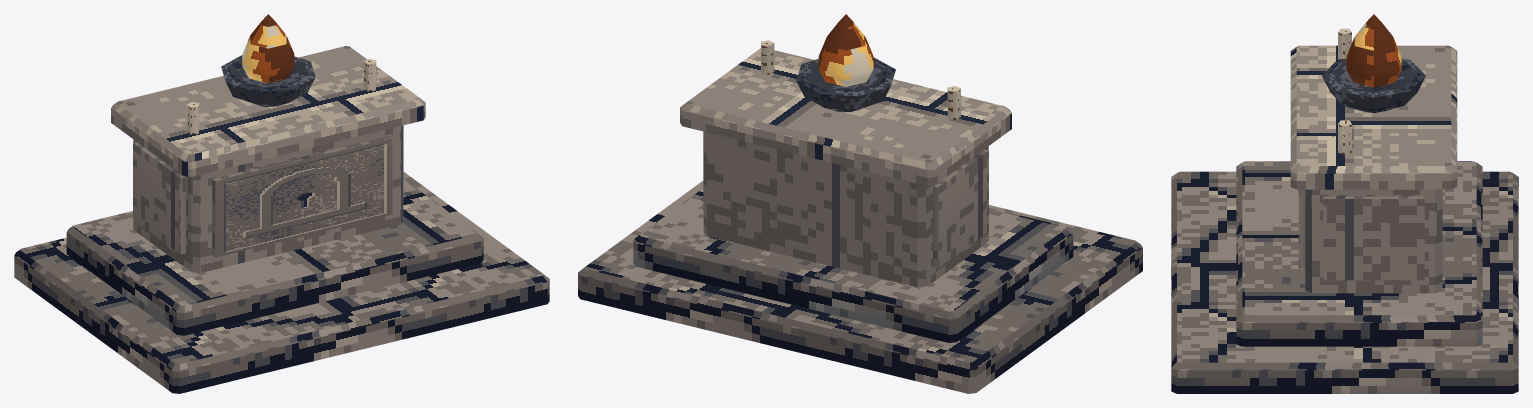
File: tmpl.altar.glb
3 views of the same model, side by side, from view 1: azimuth 30°, elevation 25°; view 2: azimuth 150°, elevation 25°; view 3: azimuth 270°, elevation 25° (orthographic). The views are drawn at different scales.
Visible parts, largest first — view 1: kit_altar, kit_reliefs, kit_bowl, kit_flame, kit_candles; view 2: kit_altar, kit_reliefs, kit_bowl, kit_flame, kit_candles; view 3: kit_altar, kit_reliefs, kit_bowl, kit_flame, kit_candles.
Boxes of the visible parts, <box> form: kit_altar: <box>14,46,549,393</box>; kit_reliefs: <box>133,125,403,257</box>; kit_bowl: <box>221,55,315,106</box>; kit_flame: <box>242,14,294,83</box>; kit_candles: <box>186,59,376,134</box>; kit_altar: <box>578,48,1142,393</box>; kit_reliefs: <box>703,132,988,267</box>; kit_bowl: <box>796,57,895,112</box>; kit_flame: <box>818,14,873,86</box>; kit_candles: <box>761,40,960,119</box>; kit_altar: <box>1171,45,1518,393</box>; kit_reliefs: <box>1298,189,1424,280</box>; kit_bowl: <box>1322,58,1425,112</box>; kit_flame: <box>1346,14,1401,87</box>; kit_candles: <box>1338,28,1351,154</box>.
Size of the model in its own units: 3.2 by 2.15 by 2.4.
Materials: 7 (7 with a texture image).
